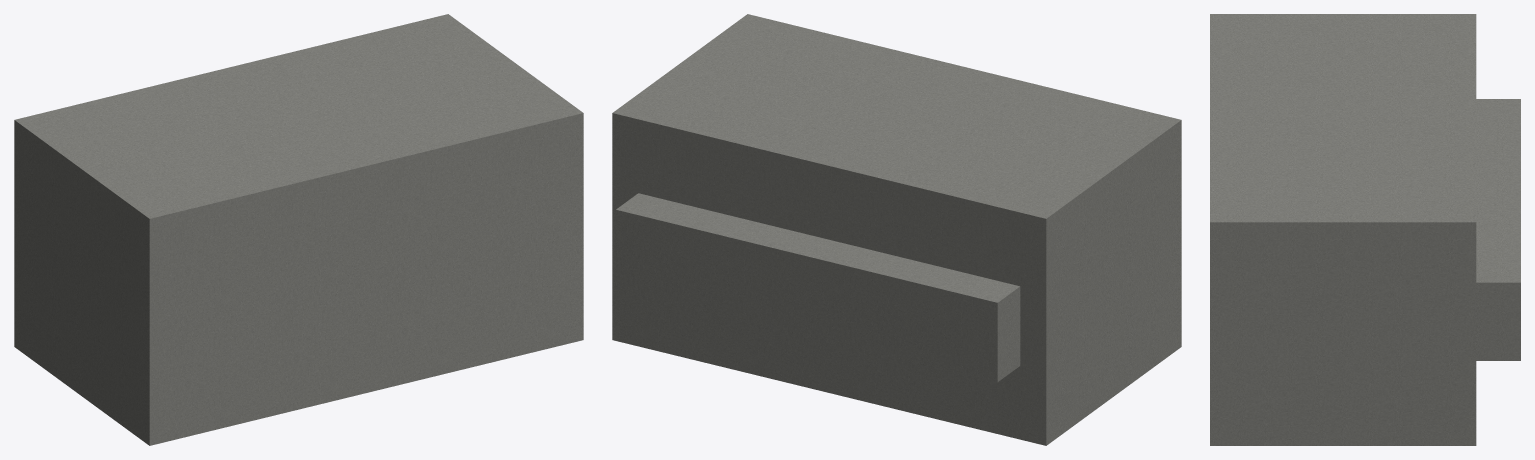
3 views of the same model, side by side, from view 1: azimuth 30°, elevation 25°; view 2: azimuth 150°, elevation 25°; view 3: azimuth 270°, elevation 25° (orthographic).
Parts seen in each view (by area): view 1: turbine_hall_1u_production_run001; view 2: turbine_hall_1u_production_run001; view 3: turbine_hall_1u_production_run001.
Boxes of the visible parts, <box> form: turbine_hall_1u_production_run001: <box>14,14,583,445</box>; turbine_hall_1u_production_run001: <box>612,14,1181,445</box>; turbine_hall_1u_production_run001: <box>1210,14,1520,445</box>.
Bounding box in the file's own units: 4 × 2 × 2.52.
Materials: 1 (1 with a texture image).
